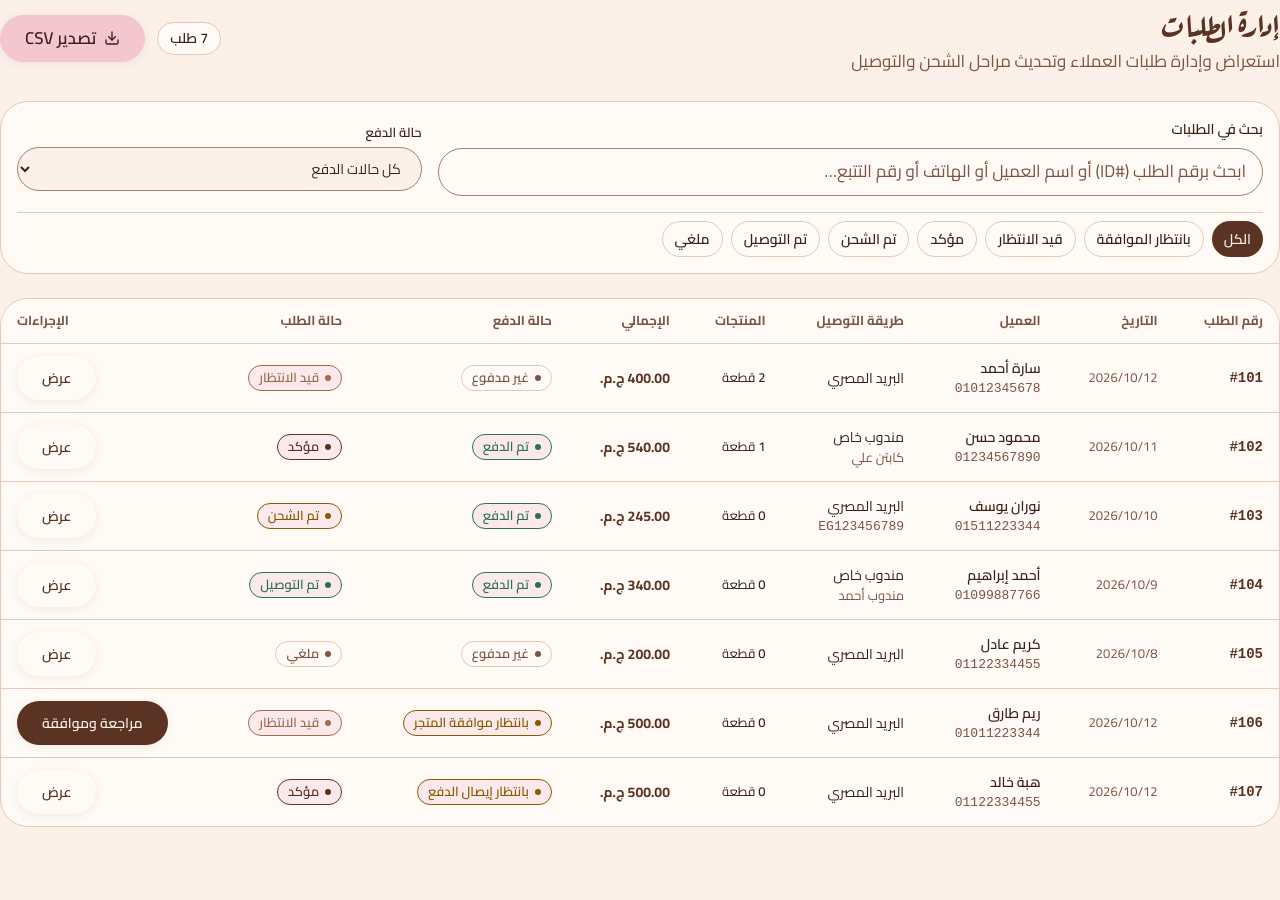
T-5.05 Orders Administration › OrdersPage UI Rendering & Interactions › opens order detail modal when clicking a row
# Click row for order #101
Click the text "#101" at (1234, 378), box top-left (1229, 370), bottom-right (1263, 386)
(page scrolled)
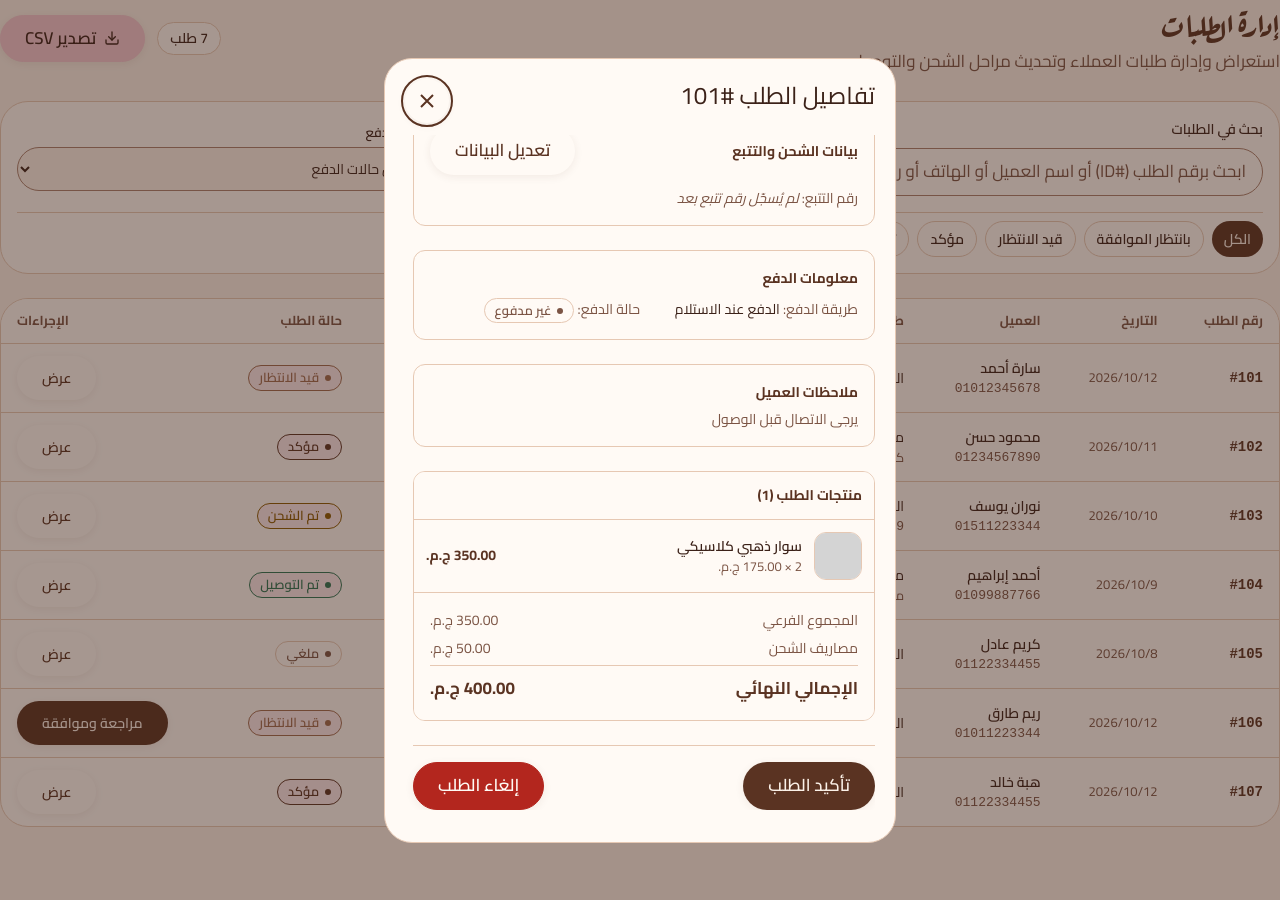
Result: the heading "تفاصيل الطلب #101" is shown at top-left (680, 78), bottom-right (875, 112)
Result: the text "يرجى الاتصال قبل الوصول" is shown at top-left (712, 406), bottom-right (858, 432)
Result: the text "سوار ذهبي كلاسيكي" is shown at top-left (677, 535), bottom-right (802, 557)
